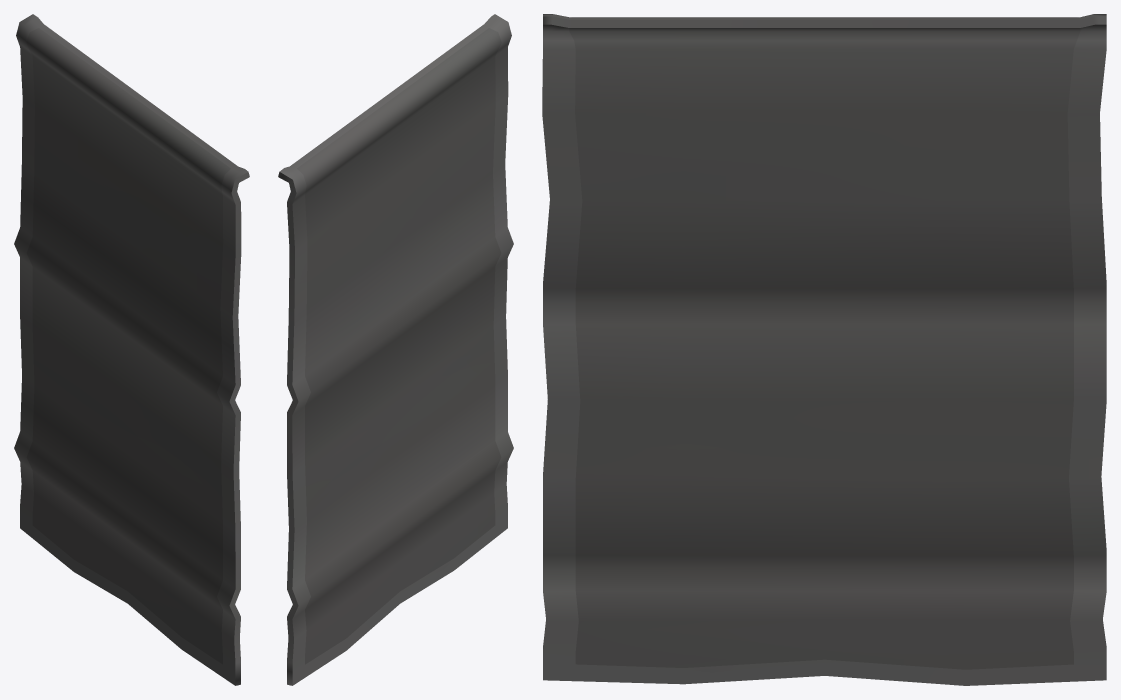
File: Scaffold_sheet_1_1.fbx
The picture shows the model from 3 angles, left to right: view 1: azimuth 30°, elevation 25°; view 2: azimuth 150°, elevation 25°; view 3: azimuth 270°, elevation 25°; orthographic projection. The views are drawn at different scales.
Parts seen in each view (by area): view 1: Scaffold_sheet_1_1; view 2: Scaffold_sheet_1_1; view 3: Scaffold_sheet_1_1.
Part boxes in pixels (x1,y1,x2,y2): Scaffold_sheet_1_1: (14,14,249,685); Scaffold_sheet_1_1: (278,14,513,685); Scaffold_sheet_1_1: (542,14,1106,685).
Size of the model in its own units: 10.1 by 242 by 184.
